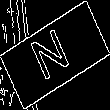N_SE: (30, 23, 80, 87)
